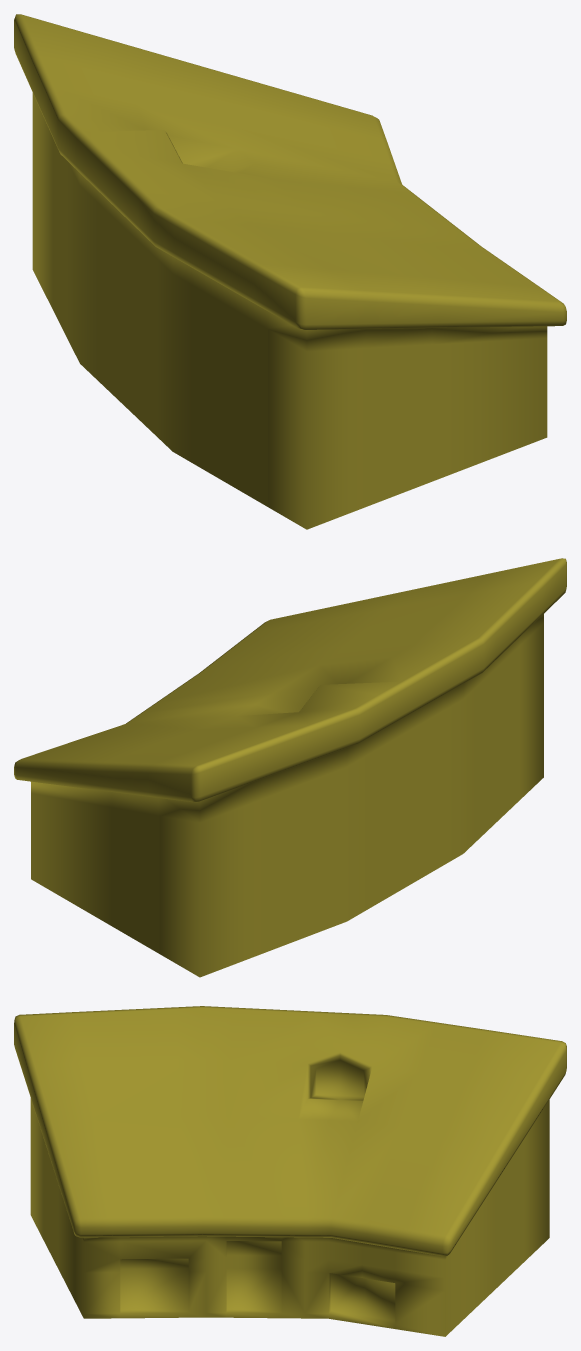
The model's file is BigHouse_UV.fbx.
3 views of the same model, one above another, from view 1: azimuth 30°, elevation 25°; view 2: azimuth 150°, elevation 25°; view 3: azimuth 270°, elevation 25° (orthographic). The views are drawn at different scales.
Parts seen in each view (by area): view 1: BigHouseProp; view 2: BigHouseProp; view 3: BigHouseProp.
Part boxes in pixels (box(x1,y1,x2,y2)): BigHouseProp: box(14, 14, 566, 529); BigHouseProp: box(14, 558, 566, 977); BigHouseProp: box(14, 1006, 566, 1336).
Bounding box in the file's own units: 24.12 × 15.06 × 38.97.
